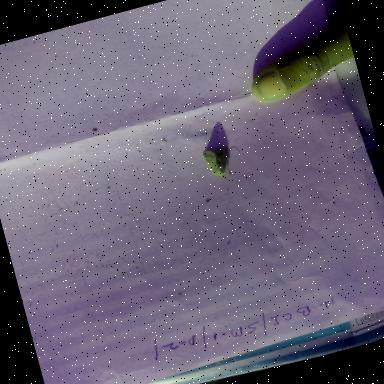pbw: (194, 142, 242, 195)
